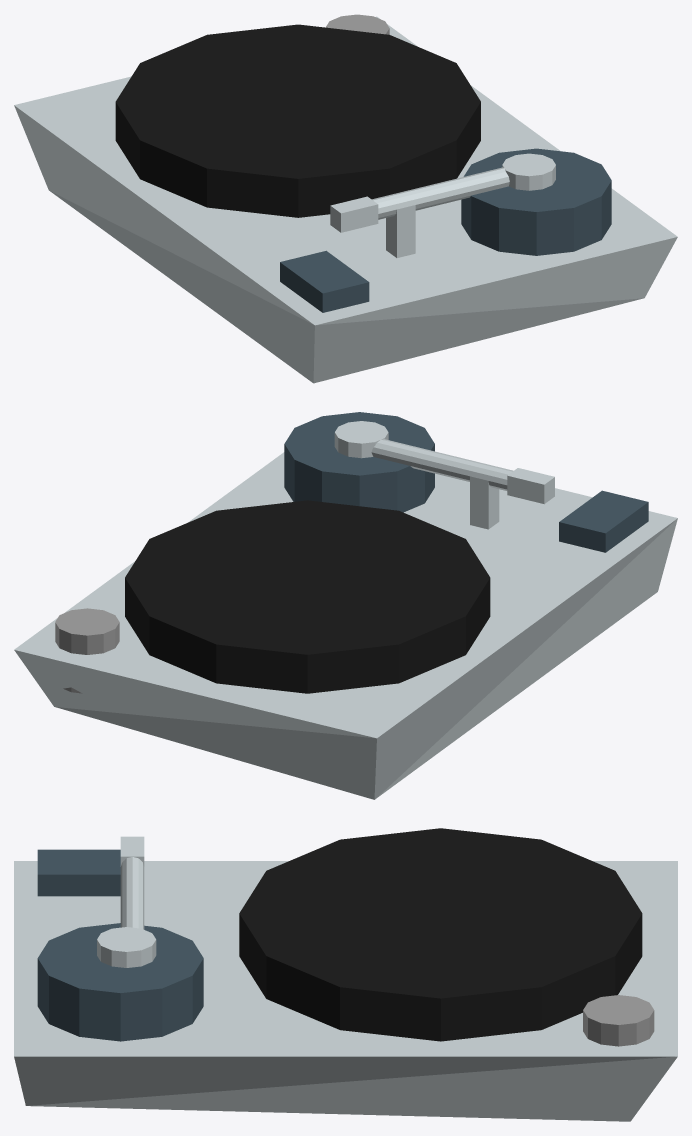
The model's file is turntable.glb.
The picture shows the model from 3 angles, top to bottom: view 1: azimuth 30°, elevation 25°; view 2: azimuth 150°, elevation 25°; view 3: azimuth 270°, elevation 25°; orthographic projection. The views are drawn at different scales.
Parts seen in each view (by area): view 1: Node; view 2: Node; view 3: Node.
Part boxes in pixels (bbox=[...]): Node: bbox=[14, 14, 677, 383]; Node: bbox=[14, 412, 677, 799]; Node: bbox=[14, 828, 677, 1121].
Bounding box in the file's own units: 0.39 × 0.14 × 0.56.
